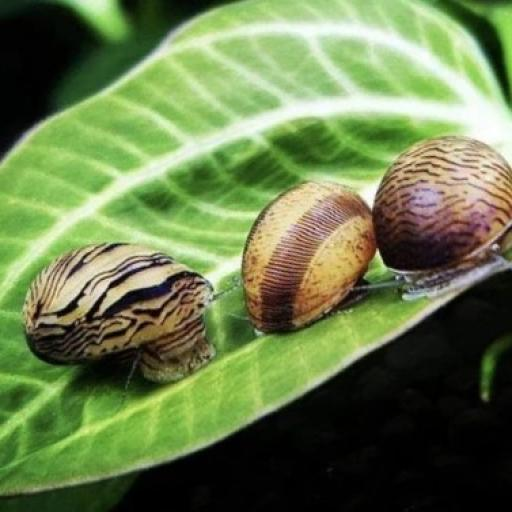Snail: (22, 232, 225, 385), (242, 180, 378, 332), (373, 134, 510, 284)
